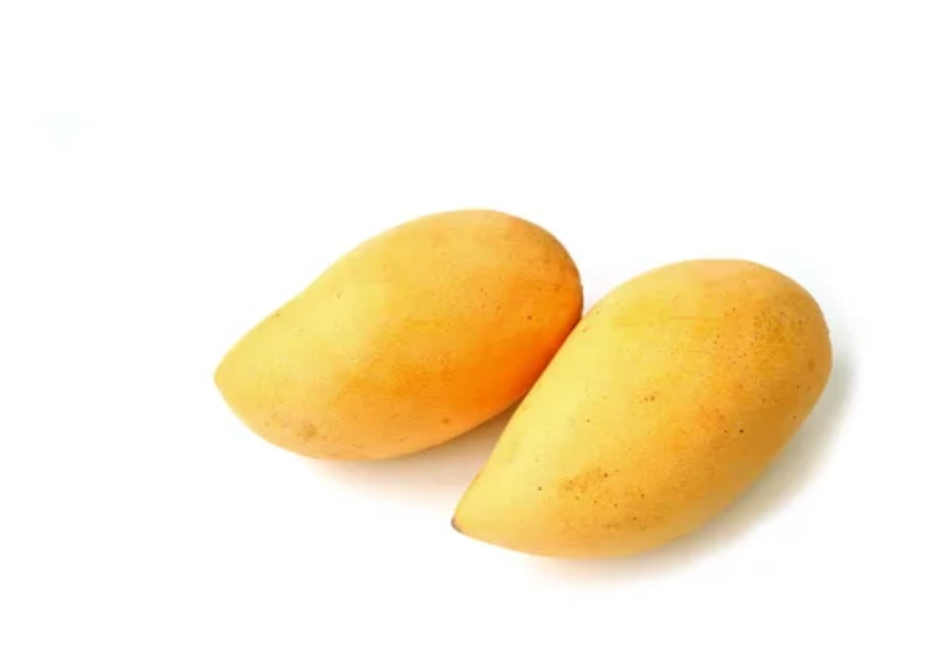mango: (449, 253, 834, 555), (213, 207, 586, 464)
